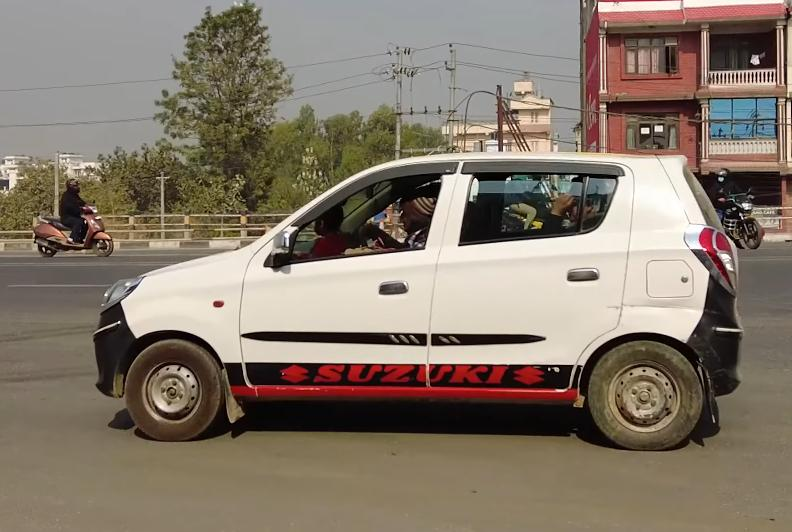bike: (702, 184, 765, 255)
scooter: (27, 197, 116, 262)
taxi: (72, 133, 748, 468)
